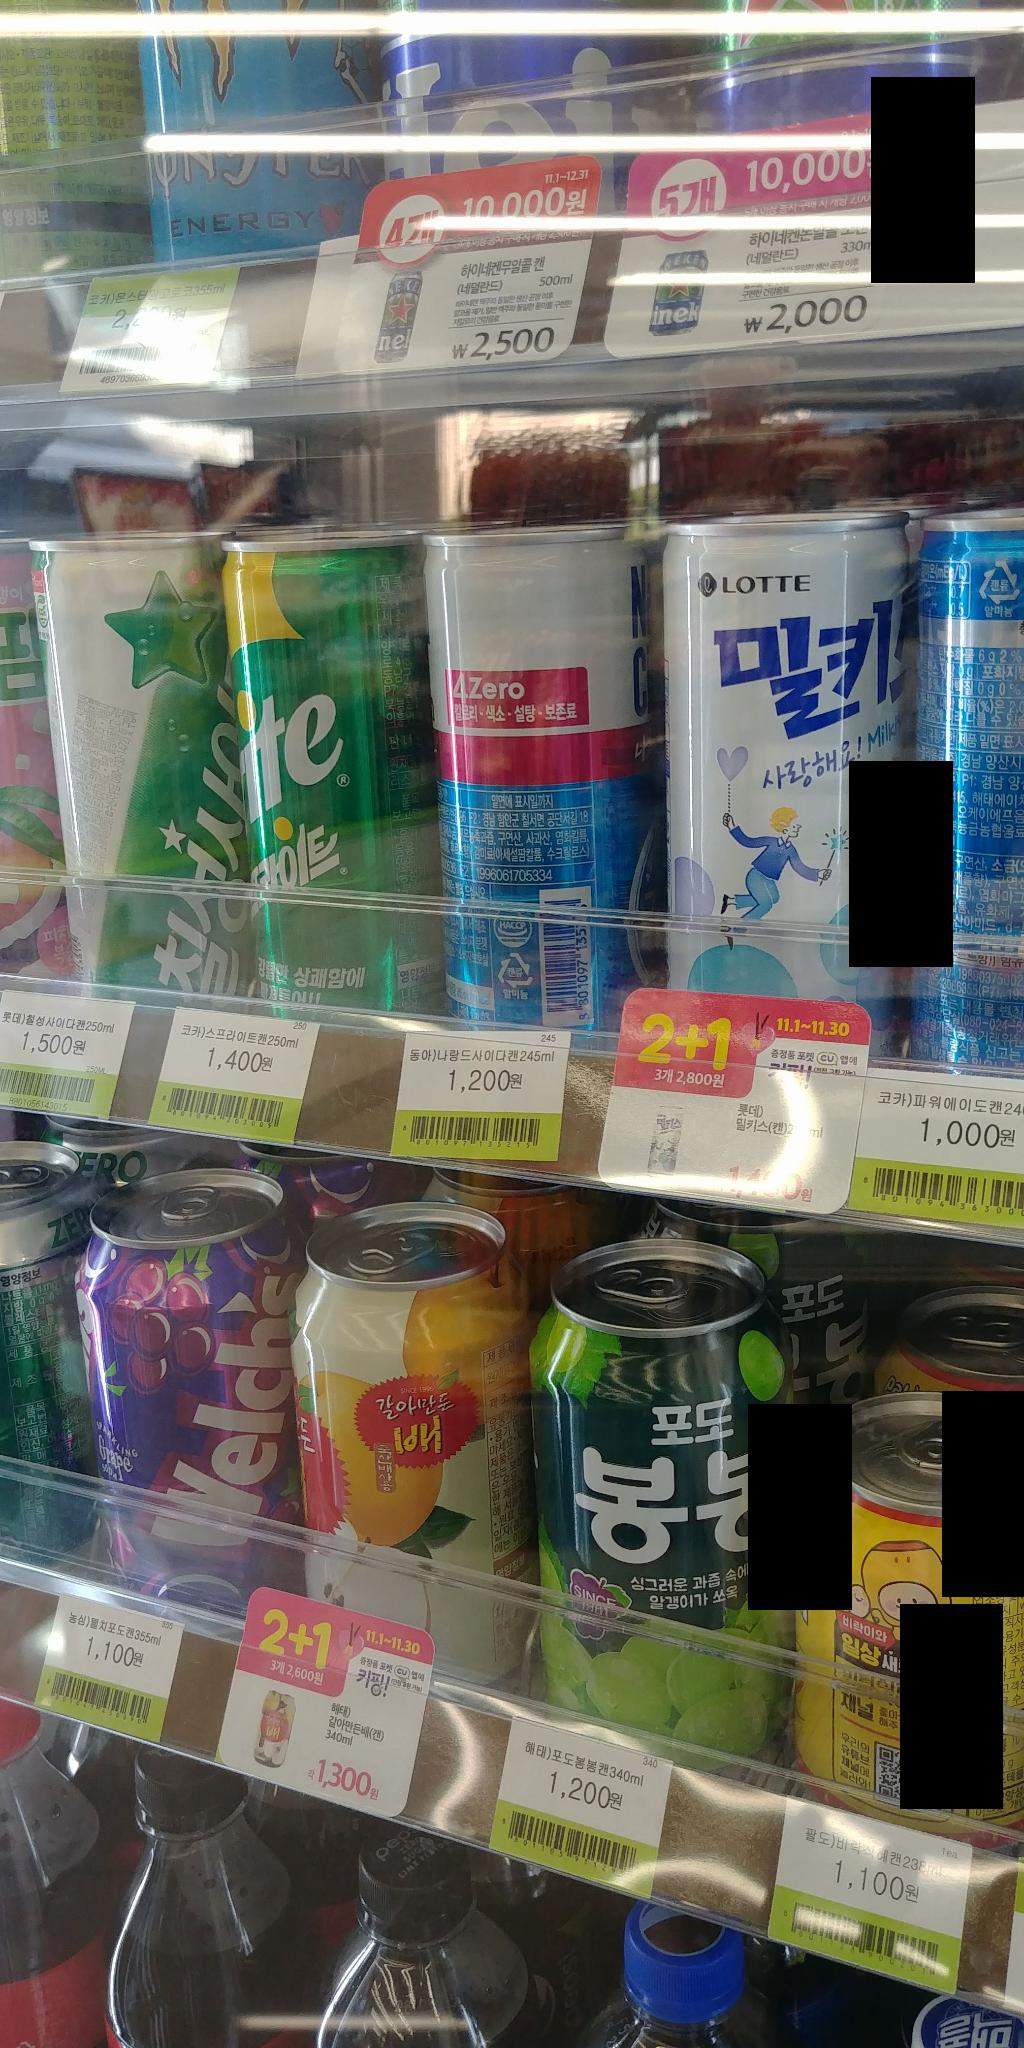narangdcider: (417, 509, 677, 1027)
welchs_grape: (72, 1156, 310, 1621)
